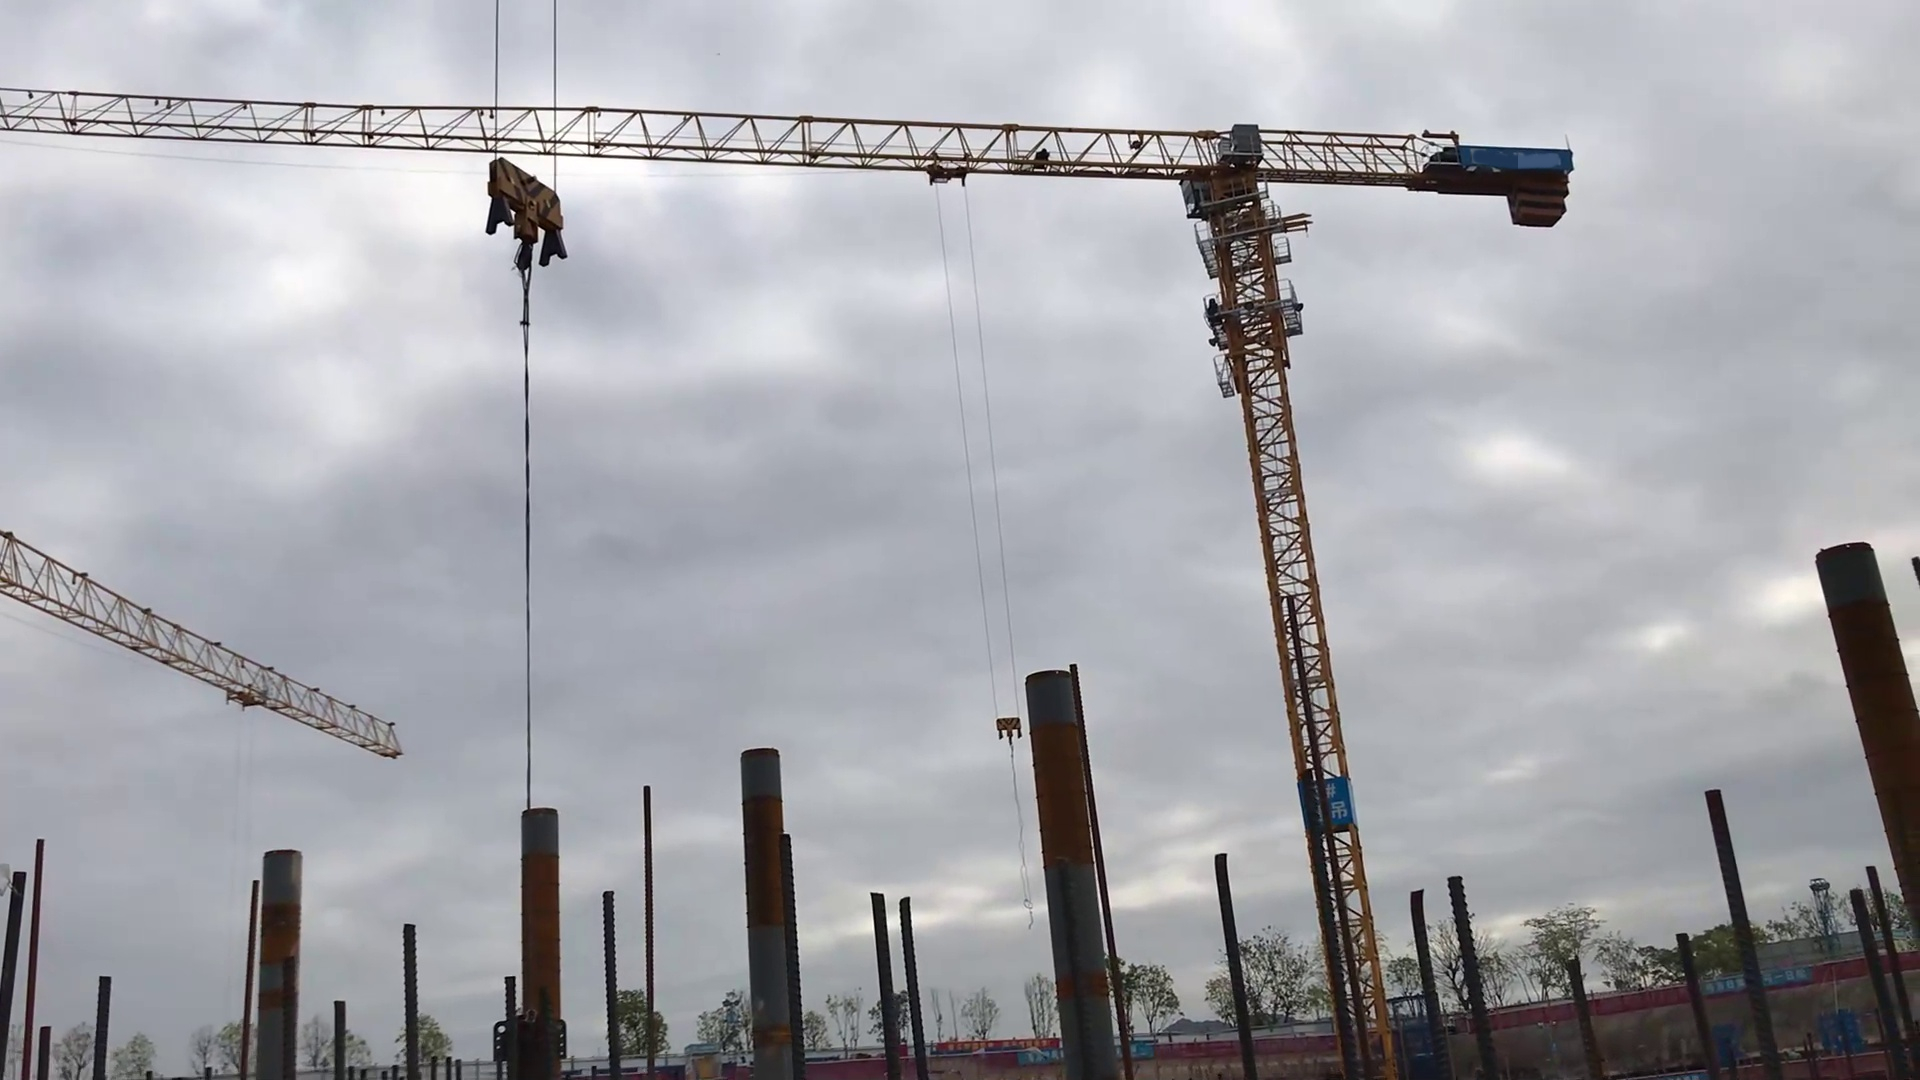hook: (477, 156, 574, 284)
